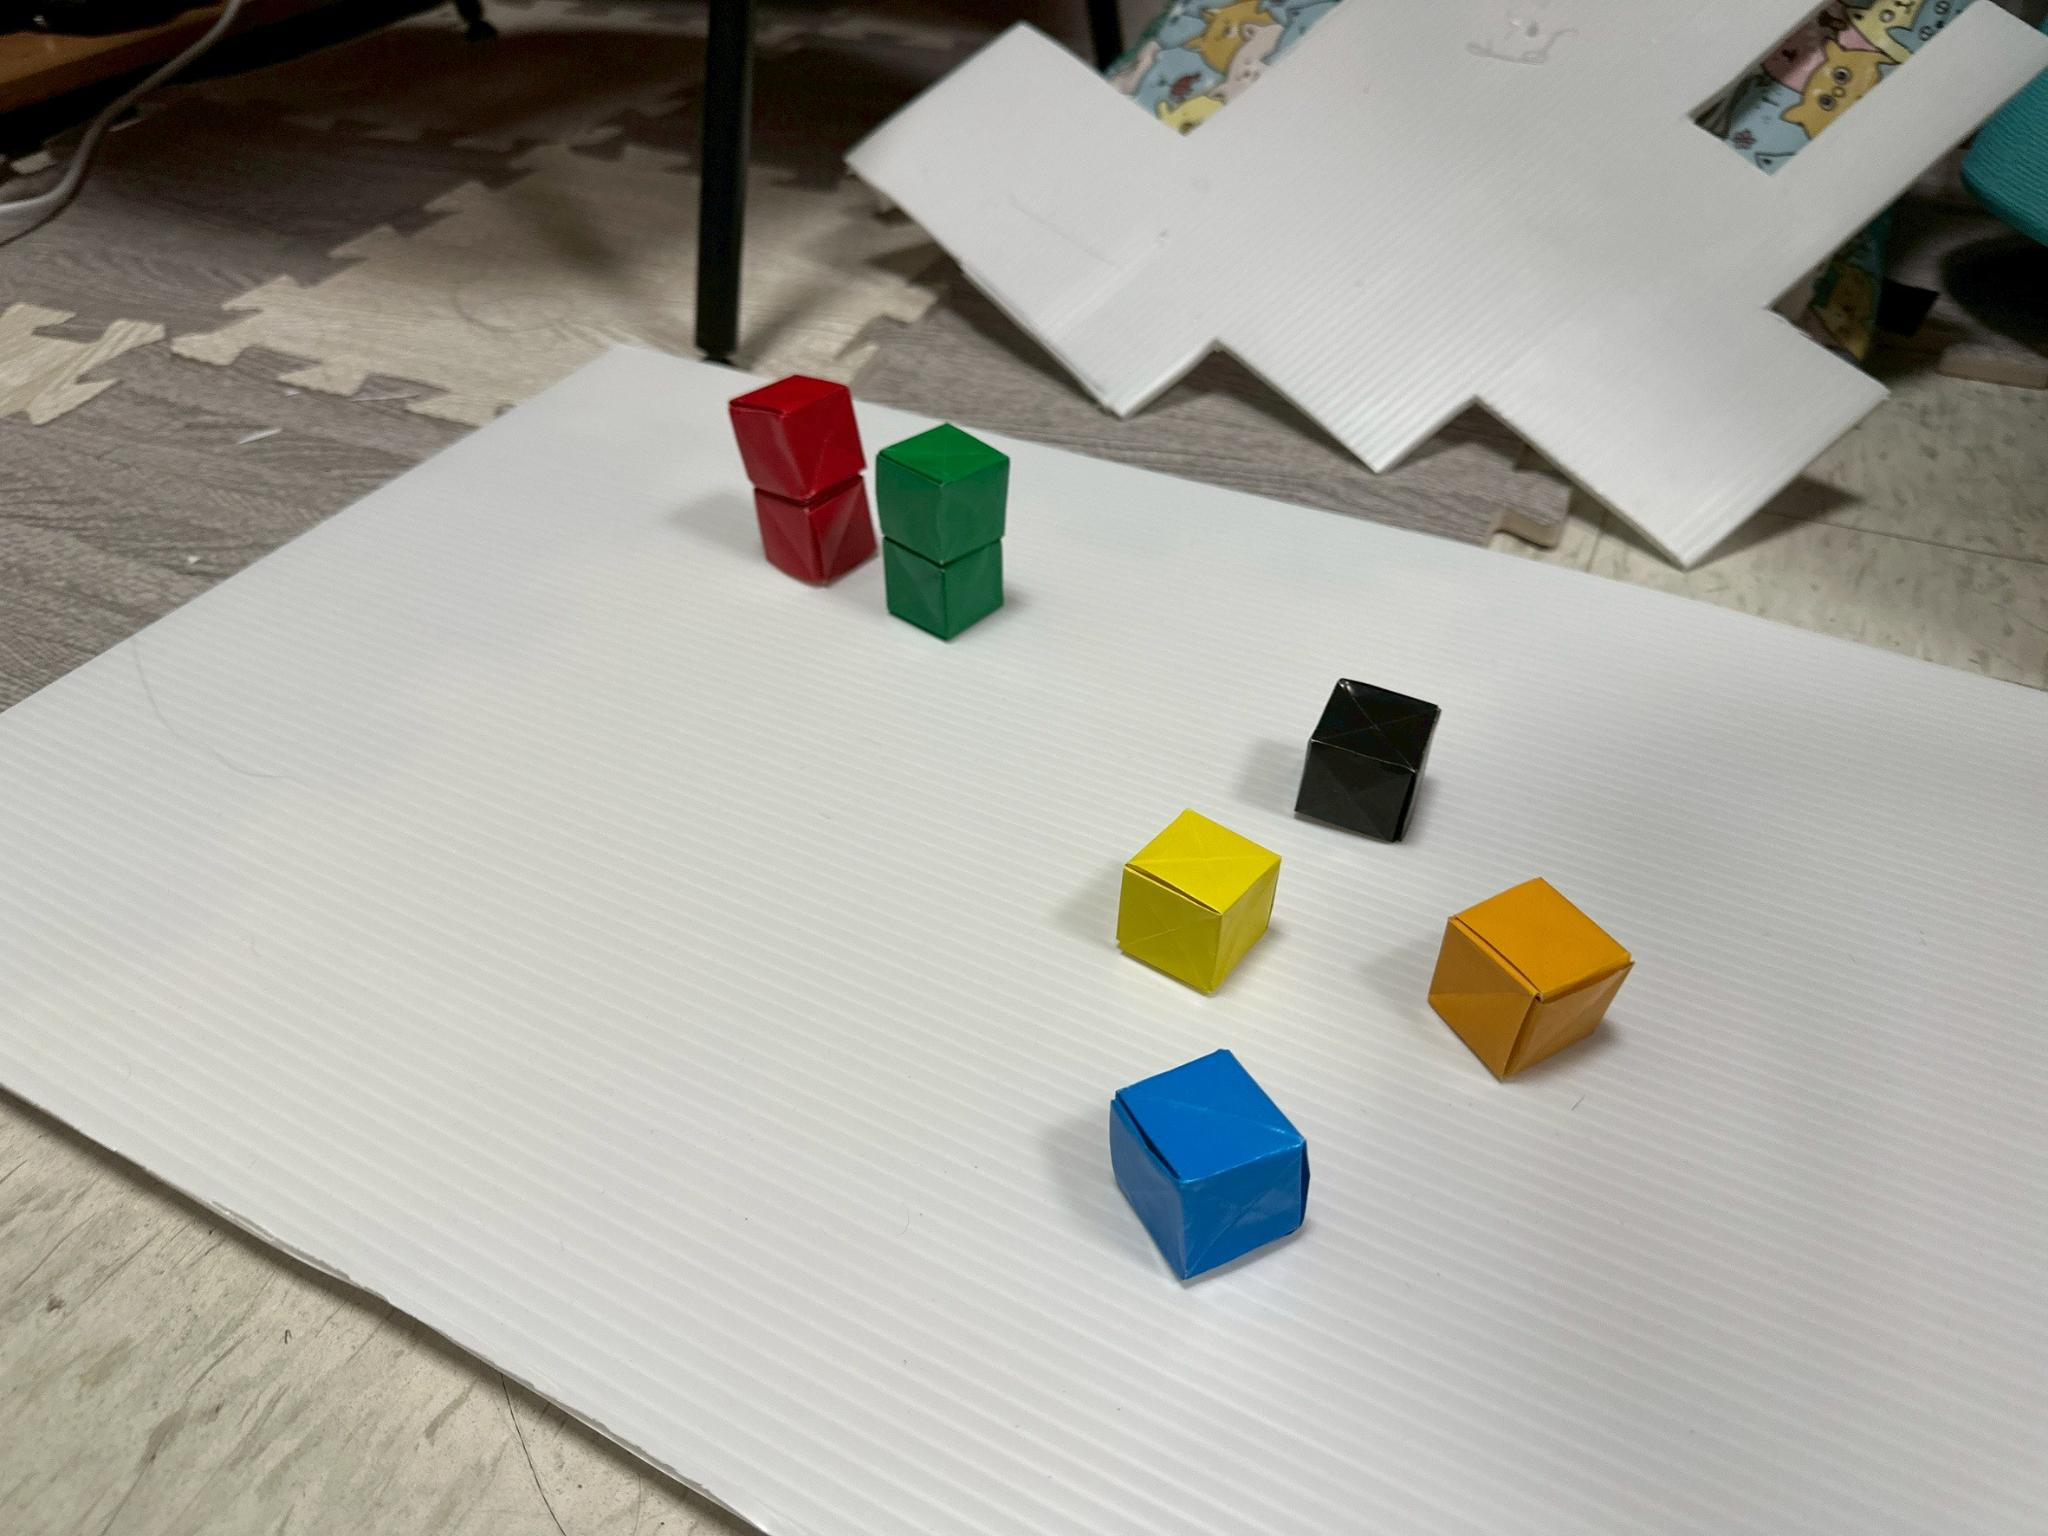base: (1111, 1050, 1309, 1281), (1429, 878, 1630, 1079), (1118, 810, 1280, 992), (1297, 681, 1440, 841), (876, 424, 1009, 565), (731, 374, 864, 500), (755, 476, 877, 584), (884, 536, 1005, 639)
